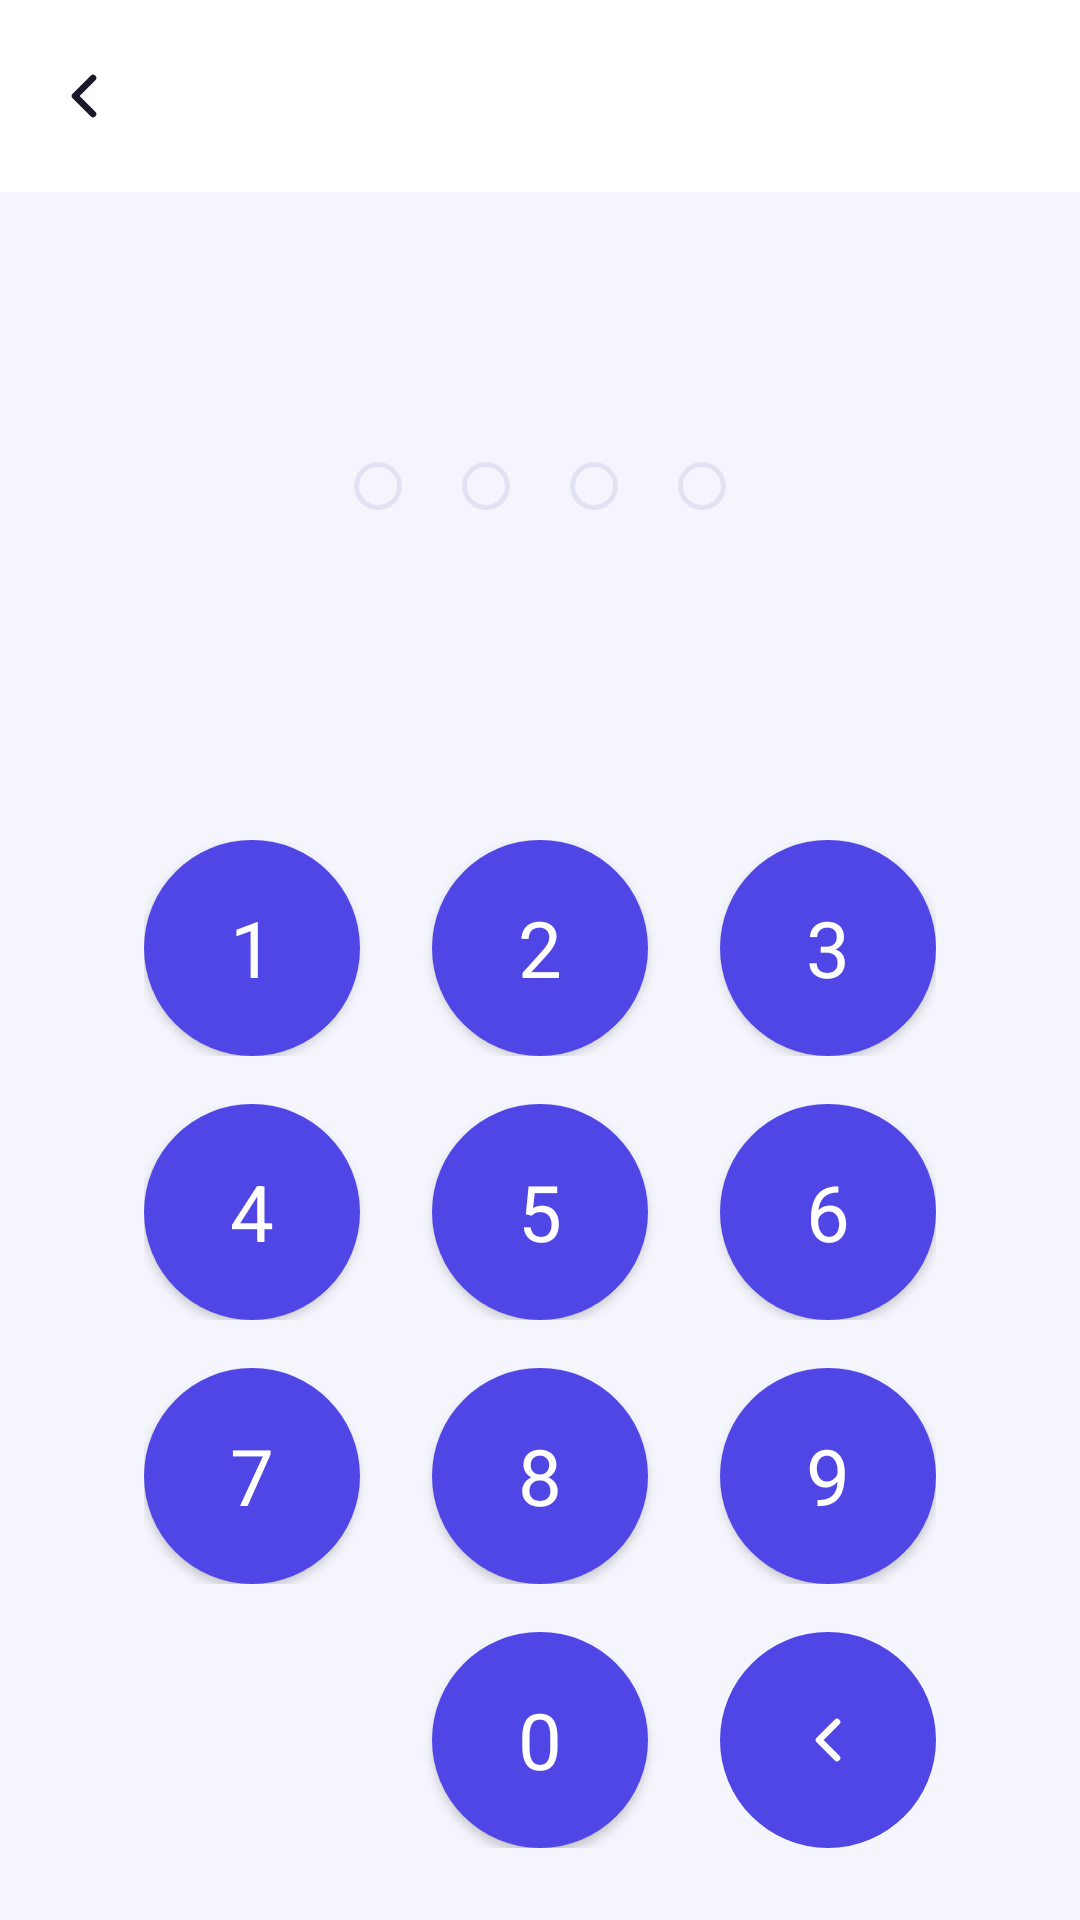

Locate icon controls on the screen. Image size 1080*1920, boxes as (x1, y1, x2, y2).
Delete last digit: (720, 1632, 936, 1848)
